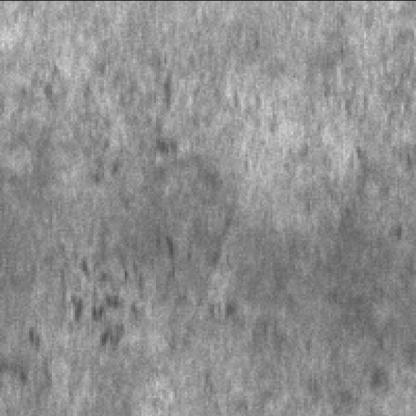rolled-in_scale: (19, 249, 168, 386)
